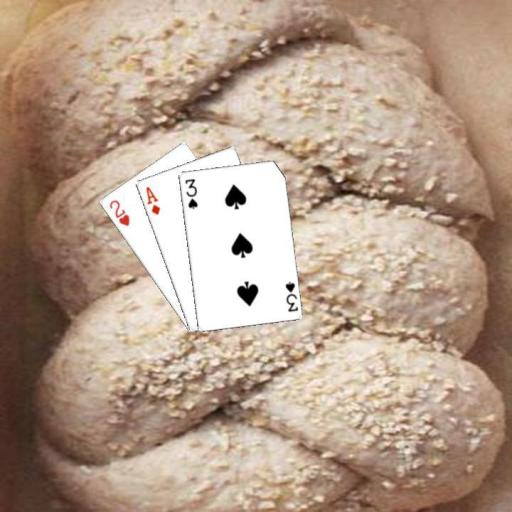2H: (106, 196, 131, 228)
3S: (181, 176, 199, 210), (282, 278, 299, 313)
AD: (143, 184, 162, 216)
